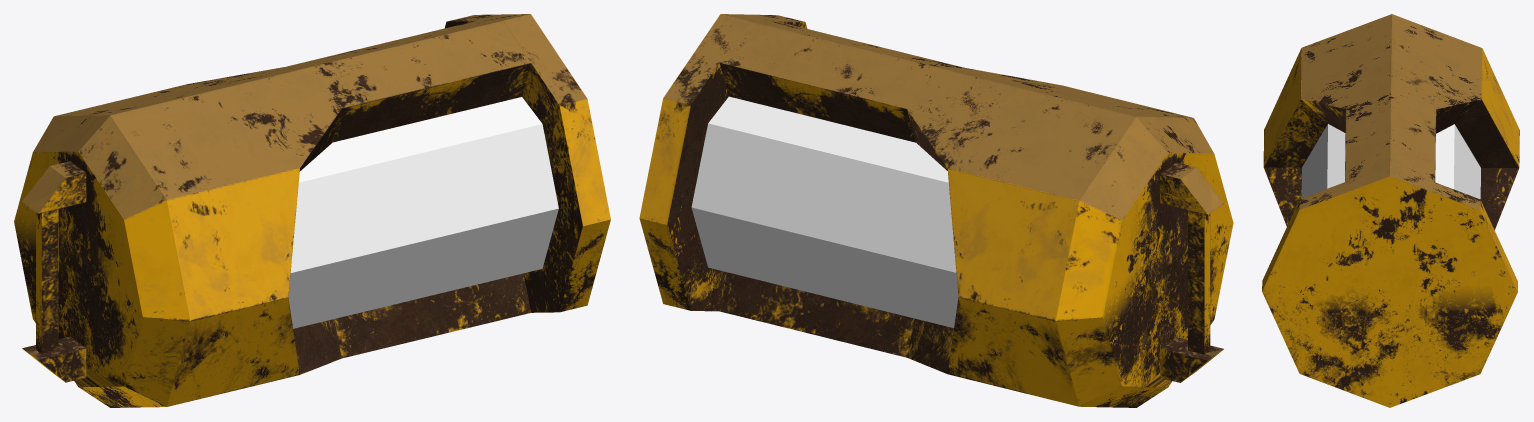
File: GenBattery.fbx
The picture shows the model from 3 angles, left to right: view 1: azimuth 30°, elevation 25°; view 2: azimuth 150°, elevation 25°; view 3: azimuth 270°, elevation 25°; orthographic projection. The views are drawn at different scales.
Visible parts, largest first — view 1: Battery; view 2: Battery; view 3: Battery.
Boxes of the visible parts, x1,y1,x2,y2 form: Battery: (14, 14, 610, 407); Battery: (639, 14, 1233, 407); Battery: (1262, 14, 1519, 407).
Bounding box in the file's own units: 89.46 × 49.97 × 50.36.
